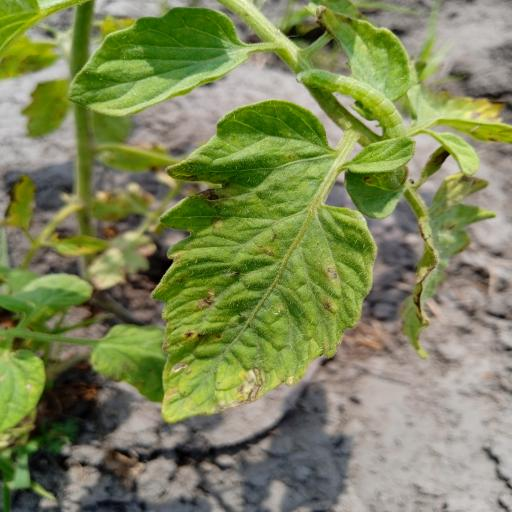Tomato_Brown_Spots: (151, 91, 383, 433)
